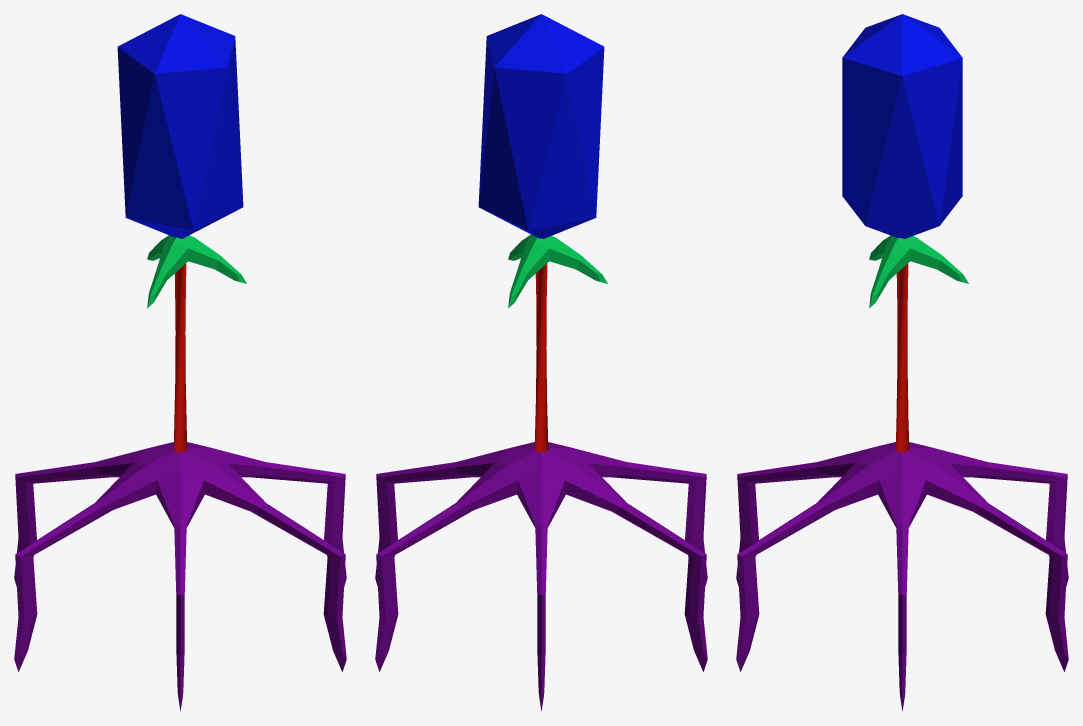
File: VirusComplex.fbx
3 views of the same model, side by side, from view 1: azimuth 30°, elevation 25°; view 2: azimuth 150°, elevation 25°; view 3: azimuth 270°, elevation 25° (orthographic).
Visible parts, largest first — view 1: Icosphere, Cone, Sphere, Cylinder; view 2: Icosphere, Cone, Sphere, Cylinder; view 3: Icosphere, Cone, Sphere, Cylinder.
Boxes of the visible parts, x1,y1,x2,y2 form: Icosphere: (117,14,243,238); Cone: (14,442,346,711); Sphere: (147,235,246,308); Cylinder: (173,237,187,452); Icosphere: (478,14,604,238); Cone: (375,442,707,711); Sphere: (508,234,607,308); Cylinder: (534,236,548,452); Icosphere: (842,14,962,238); Cone: (736,442,1068,711); Sphere: (869,235,968,308); Cylinder: (895,238,909,452).
Size of the model in its own units: 5.43 by 9.65 by 4.7.
